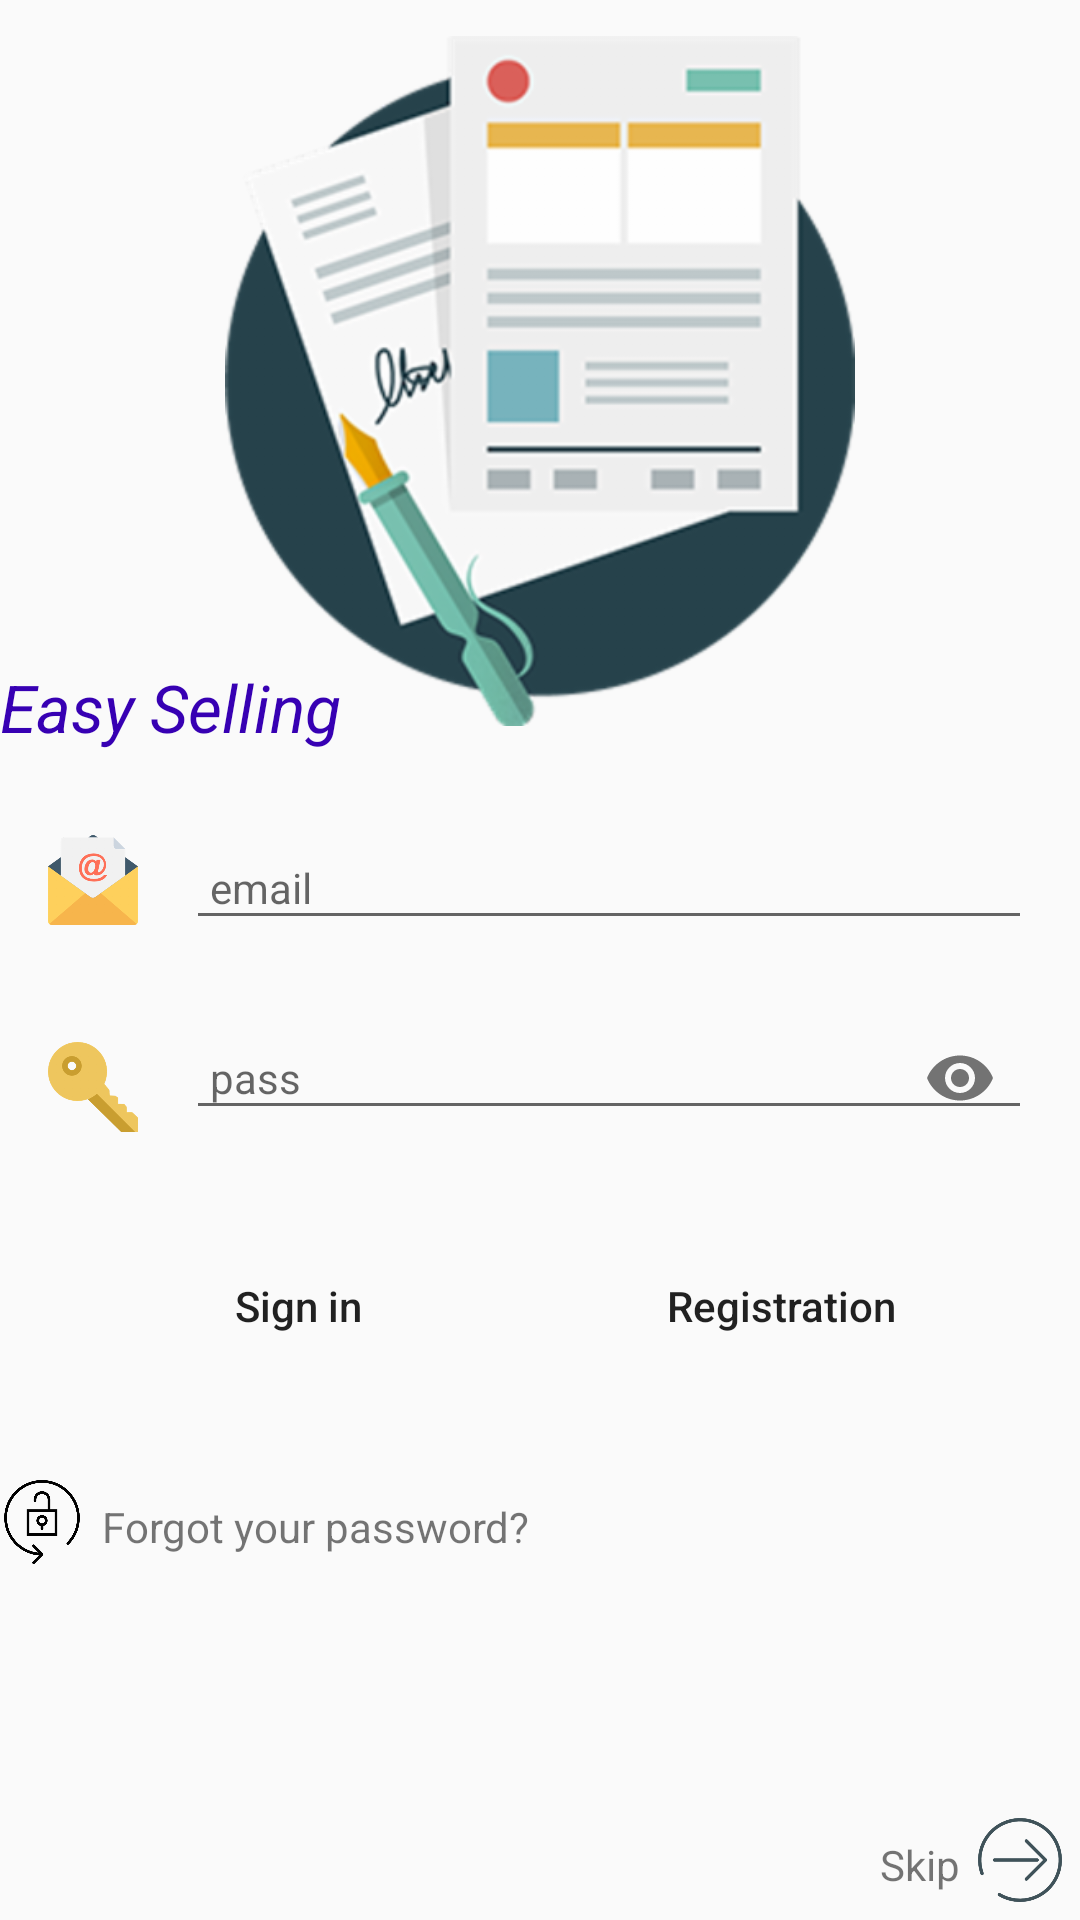

Icon click points for this 1080*1920 phone screenshot, format point (x, y):
annon login: point (1020, 1860)
key: point (93, 1087)
lock: point (42, 1522)
